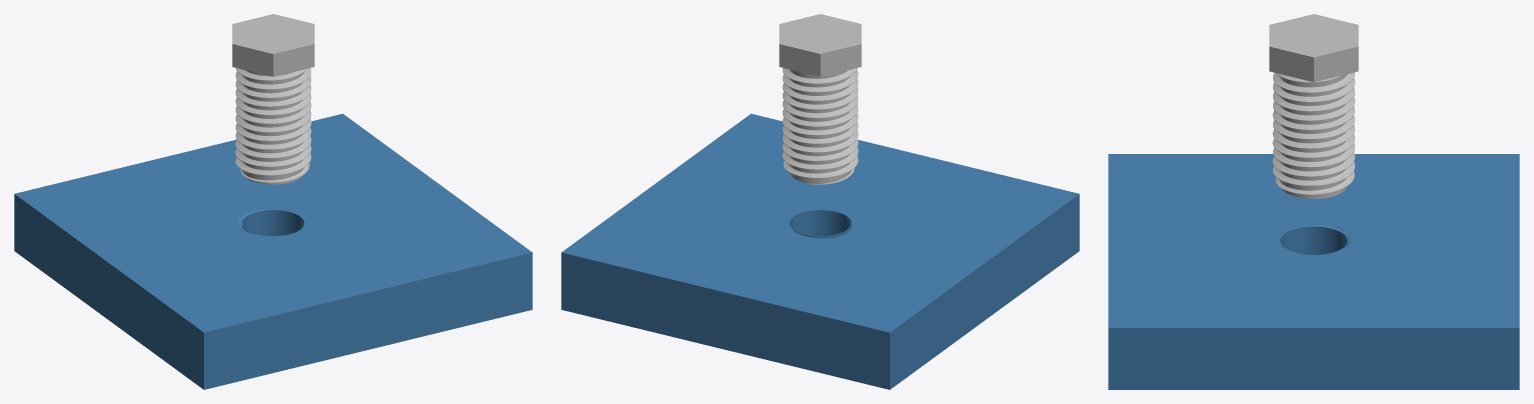
The model's file is fonksiyonlarla_moduler_tasarim.gltf.
The picture shows the model from 3 angles, left to right: view 1: azimuth 30°, elevation 25°; view 2: azimuth 150°, elevation 25°; view 3: azimuth 270°, elevation 25°; orthographic projection. The views are drawn at different scales.
Parts seen in each view (by area): view 1: YivliPlaka_part, Vida_part; view 2: YivliPlaka_part, Vida_part; view 3: YivliPlaka_part, Vida_part.
Boxes of the visible parts, x1,y1,x2,y2 form: YivliPlaka_part: (14, 113, 532, 389); Vida_part: (232, 14, 314, 184); YivliPlaka_part: (561, 113, 1079, 389); Vida_part: (779, 14, 861, 184); YivliPlaka_part: (1108, 154, 1519, 389); Vida_part: (1269, 14, 1358, 198).
Bounding box in the file's own units: 60 × 43 × 60.
